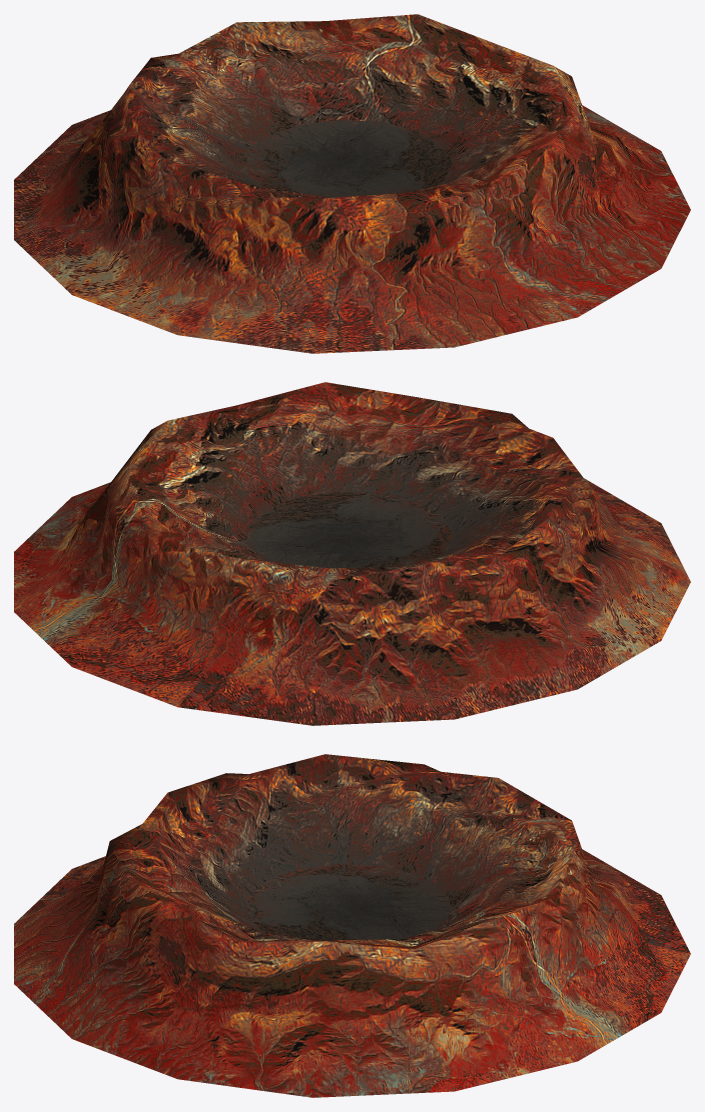
The model's file is crater_1.obj.
3 views of the same model, one above another, from view 1: azimuth 30°, elevation 25°; view 2: azimuth 150°, elevation 25°; view 3: azimuth 270°, elevation 25° (orthographic).
Parts seen in each view (by area): view 1: crater; view 2: crater; view 3: crater.
Part boxes in pixels (<box>): crater: <box>14,14,690,353</box>; crater: <box>14,382,690,725</box>; crater: <box>14,754,690,1097</box>.
Size of the model in its own units: 3.87 by 0.663 by 3.85.
